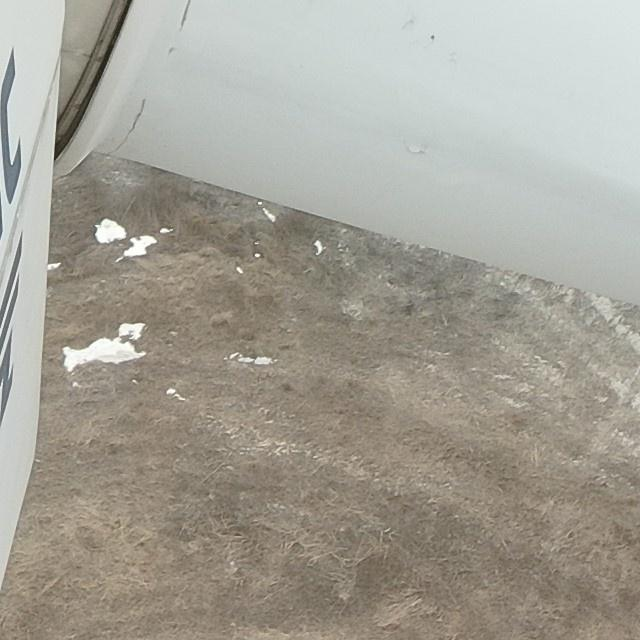Crack: (103, 90, 151, 158), (154, 1, 211, 56), (395, 130, 435, 161)
